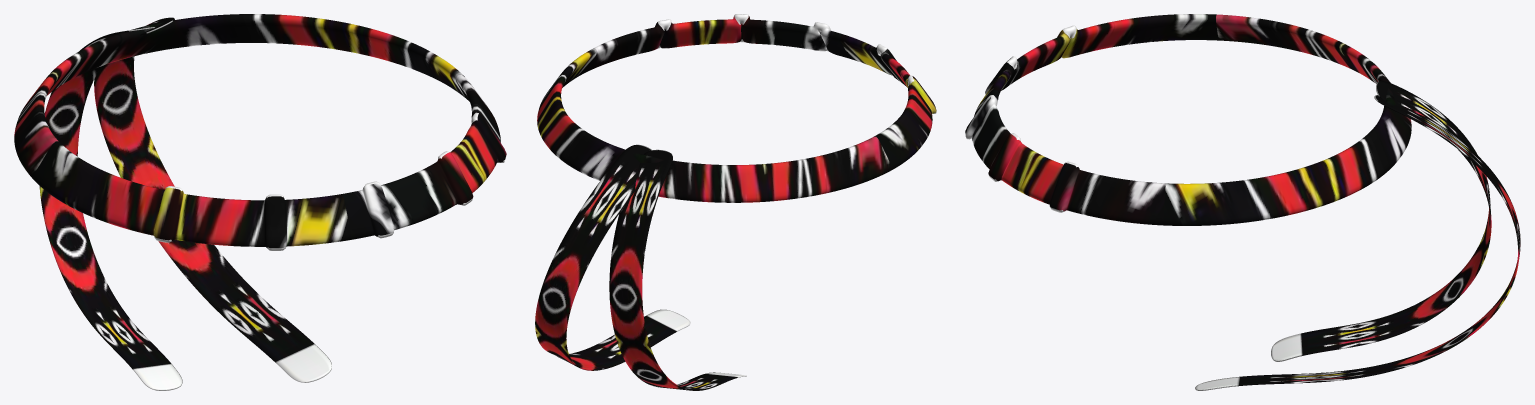
File: pasapi toraja.fbx
3 renders of one model, left to right at view 1: azimuth 30°, elevation 25°; view 2: azimuth 150°, elevation 25°; view 3: azimuth 270°, elevation 25°, orthographic. The views are drawn at different scales.
Parts seen in each view (by area): view 1: Cylinder, Plane.003, Plane.001; view 2: Cylinder, Plane.003, Plane.001; view 3: Cylinder, Plane.001, Plane.003.
Part boxes in pixels (box(x1,y1,x2,y2)): Cylinder: box(14, 14, 506, 250); Plane.003: box(94, 17, 331, 382); Plane.001: box(39, 27, 182, 390); Cylinder: box(537, 14, 936, 202); Plane.003: box(535, 144, 690, 370); Plane.001: box(609, 149, 746, 390); Cylinder: box(965, 14, 1411, 225); Plane.001: box(1271, 81, 1491, 361); Plane.003: box(1195, 95, 1520, 390).
Bounding box in the file's own units: 290 × 206 × 366.
Materials: 3 (3 with a texture image).
